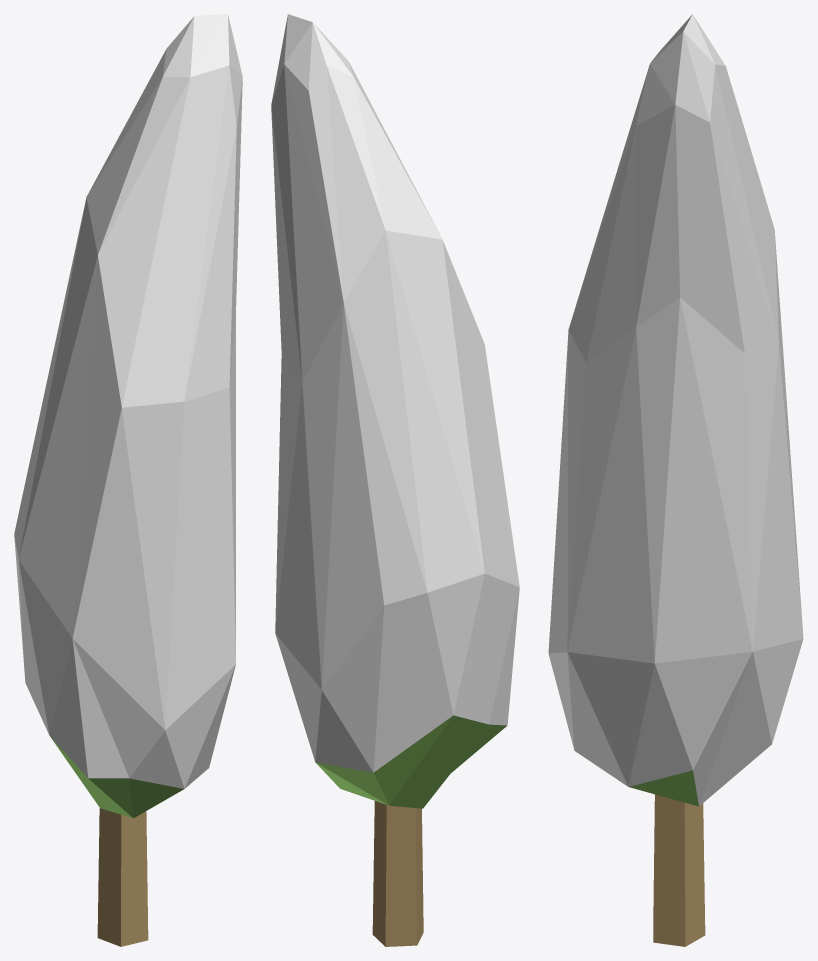
File: Thuja_Tree_m_Snow_BT_08.fbx
3 views of the same model, side by side, from view 1: azimuth 30°, elevation 25°; view 2: azimuth 150°, elevation 25°; view 3: azimuth 270°, elevation 25° (orthographic). The views are drawn at different scales.
Visible parts, largest first — view 1: Thuja_Tree_m_Snow_BT_08; view 2: Thuja_Tree_m_Snow_BT_08; view 3: Thuja_Tree_m_Snow_BT_08.
Boxes of the visible parts, x1,y1,x2,y2 form: Thuja_Tree_m_Snow_BT_08: [14, 14, 242, 946]; Thuja_Tree_m_Snow_BT_08: [271, 14, 519, 946]; Thuja_Tree_m_Snow_BT_08: [548, 14, 803, 946].
Bounding box in the file's own units: 123 × 492 × 118.
